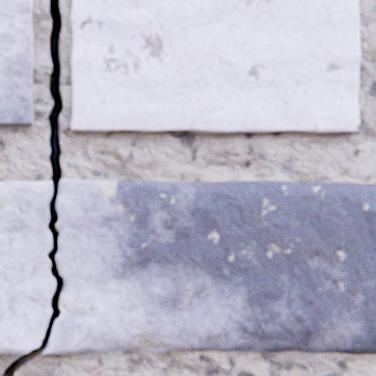brick: (71, 0, 359, 133), (0, 0, 33, 126)
broken_brick: (42, 179, 375, 353), (0, 180, 55, 353)
crack: (1, 0, 64, 375)
